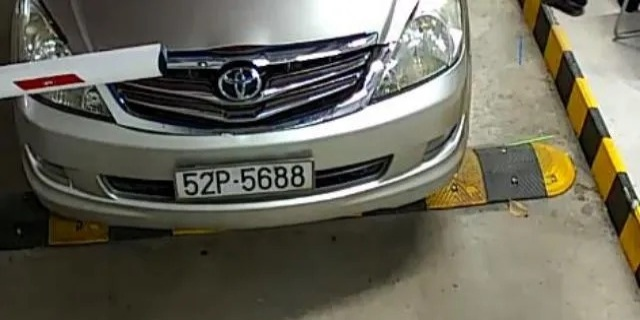bien_so: (176, 164, 314, 196)
